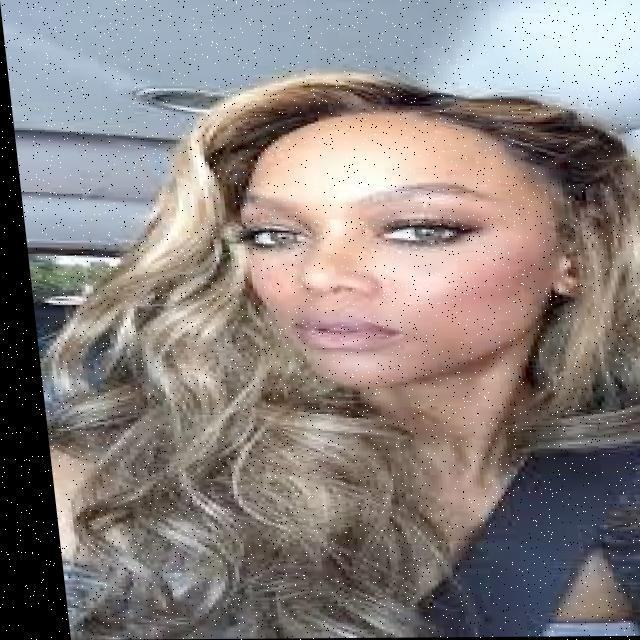seatbelt: (247, 392, 640, 638)
